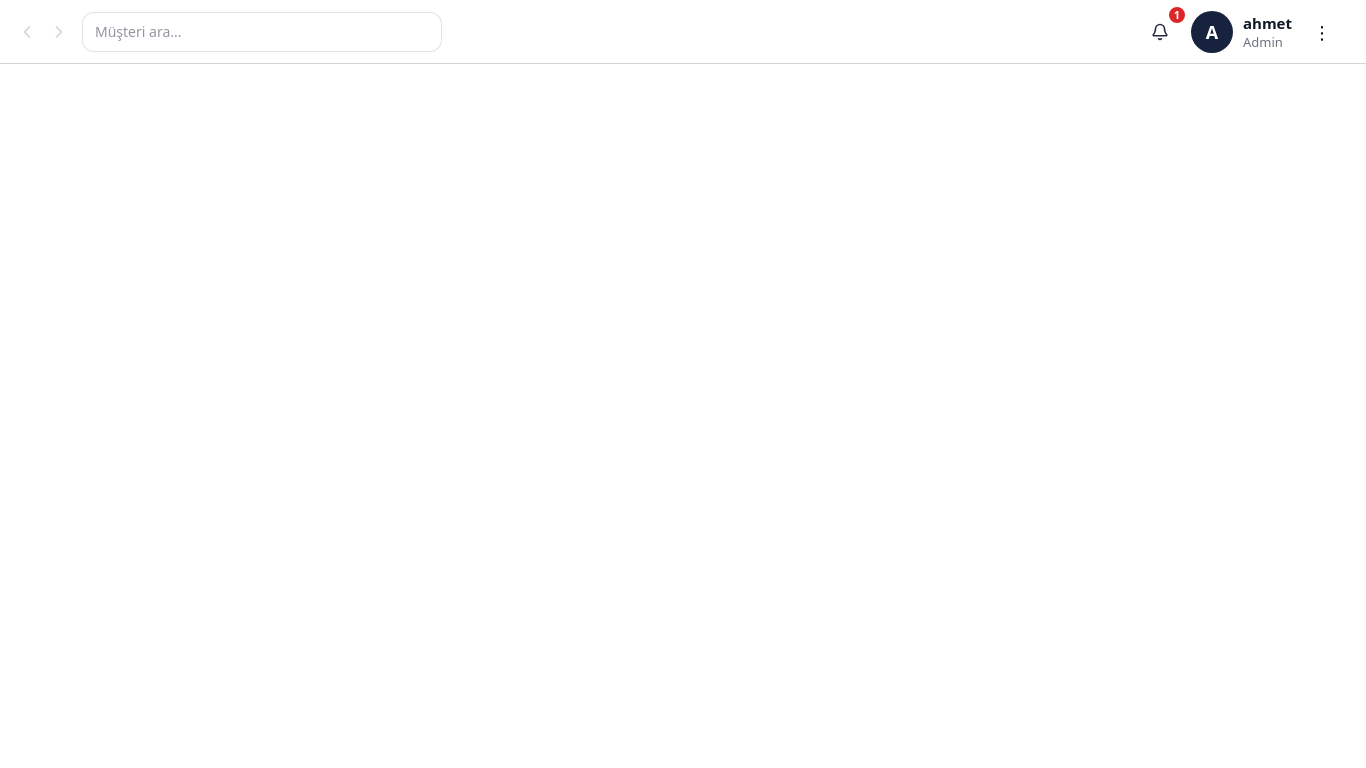
Test case: Header › notification menu › opens the menu and lists notifications
What coordinates should you click on to do the following:
click the button named "Bildirimler"
I would click on:
 (1160, 32)
Its box is [1139,10,1181,52].
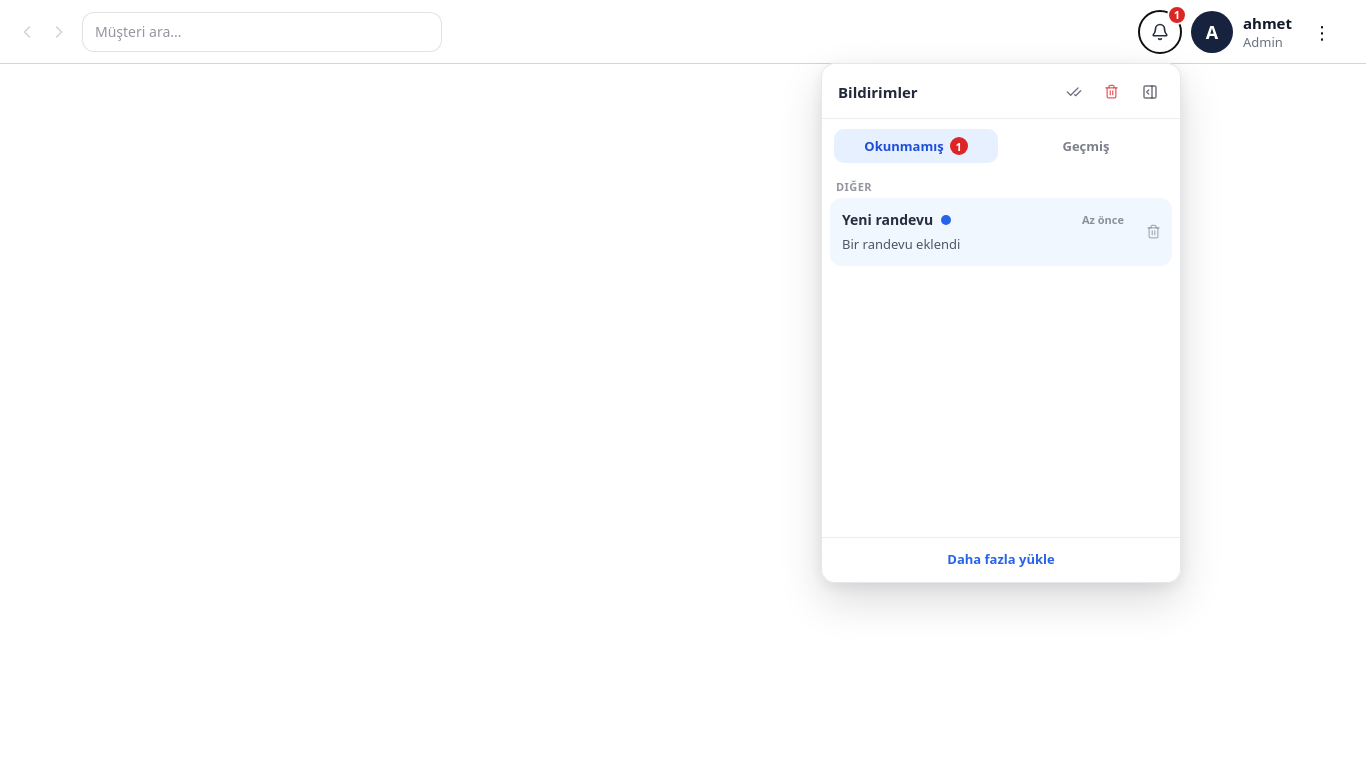
Check: the text "Yeni randevu" is shown, box [842,210,933,228]
# "Ödeme alındı" is read — switch to history tab
What coordinates should you click on to do the following:
click the button "Geçmiş"
I would click on:
 (1086, 146)
Its box is [1004,128,1168,162].
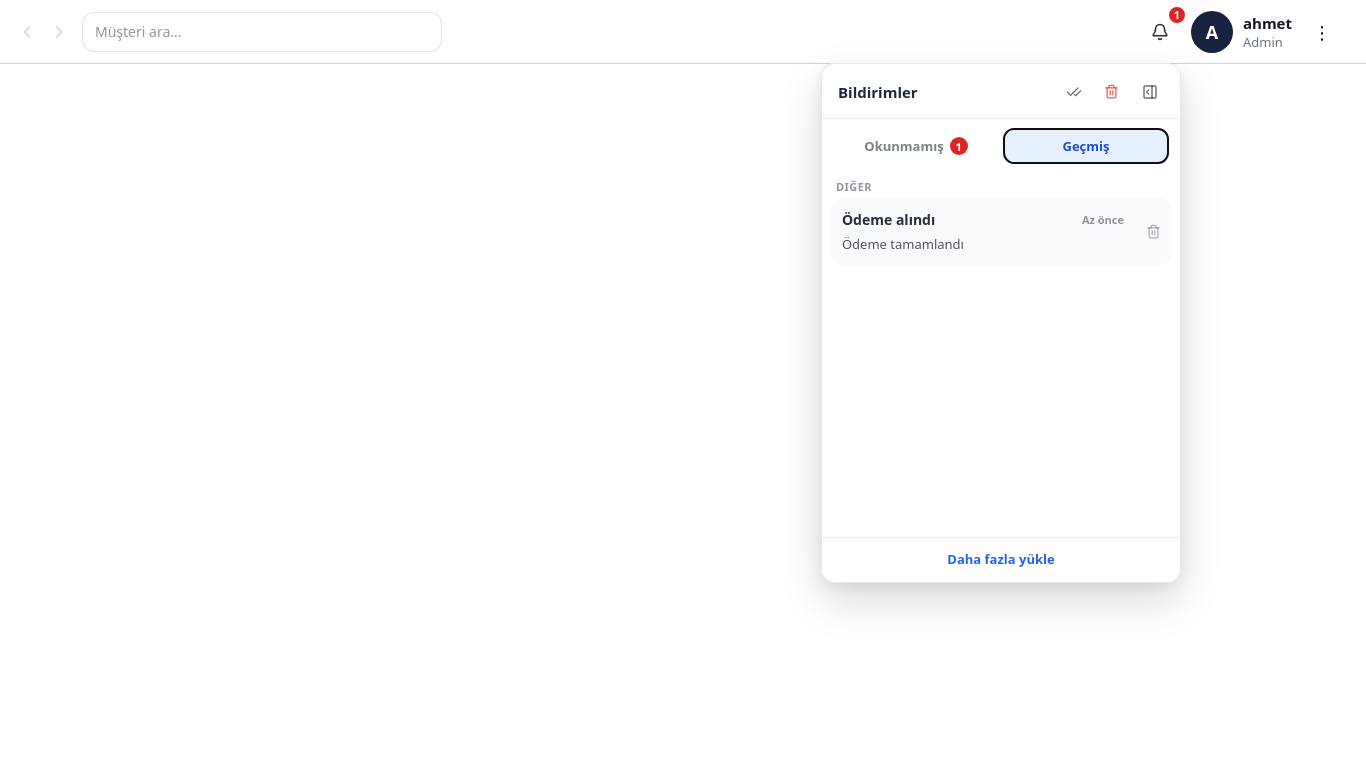
Check: the text "Ödeme alındı" is shown, box [842,210,935,228]
